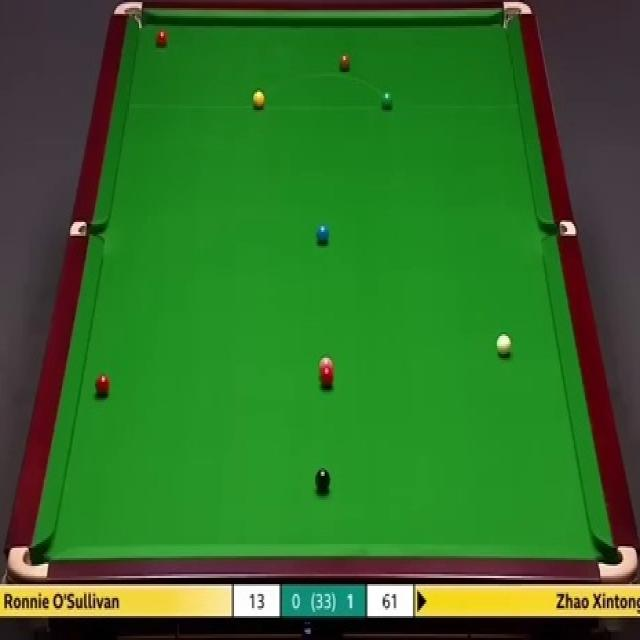black-ball: (314, 468, 332, 494)
blue-ball: (316, 224, 329, 244)
brown-ball: (338, 52, 351, 72)
green-ball: (380, 89, 393, 110)
pink-ball: (318, 356, 334, 370)
red-ball: (95, 372, 111, 398), (318, 367, 335, 388), (154, 28, 168, 50)
white-ball: (495, 332, 511, 356)
yellow-ball: (253, 90, 265, 110)
